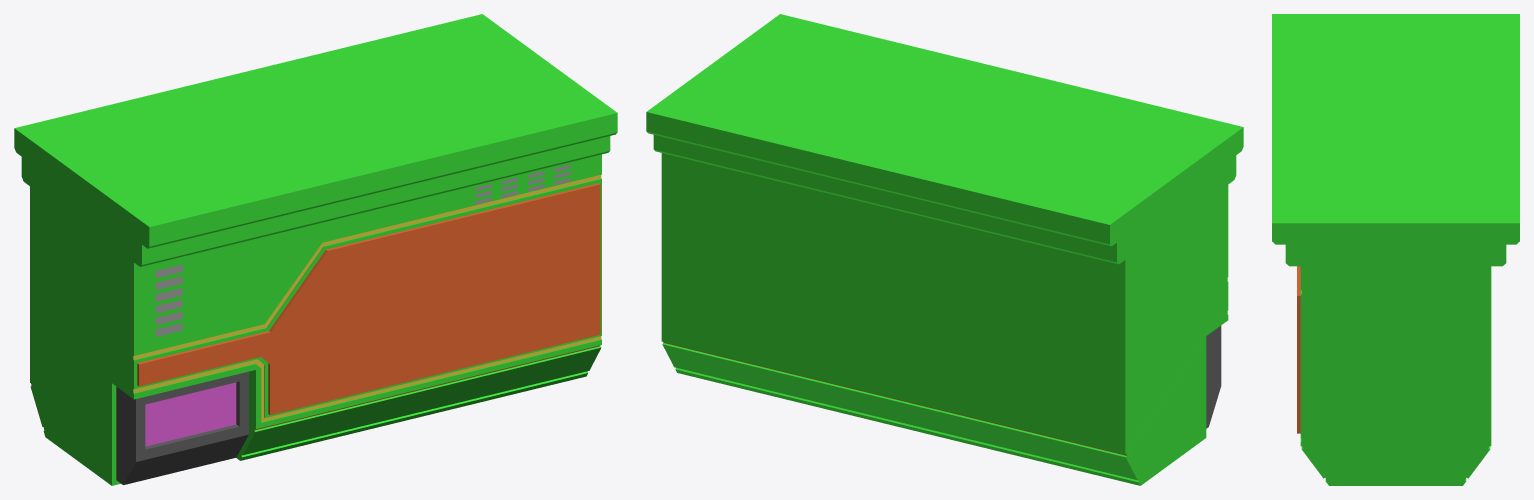
File: Bar_Ceiling_01_Straight_A.fbx
3 views of the same model, side by side, from view 1: azimuth 30°, elevation 25°; view 2: azimuth 150°, elevation 25°; view 3: azimuth 270°, elevation 25° (orthographic). The views are drawn at different scales.
Parts seen in each view (by area): view 1: Bar_Ceiling_01_Straight_A; view 2: Bar_Ceiling_01_Straight_A; view 3: Bar_Ceiling_01_Straight_A.
Boxes of the visible parts, <box> form: Bar_Ceiling_01_Straight_A: <box>14,14,617,485</box>; Bar_Ceiling_01_Straight_A: <box>646,14,1243,485</box>; Bar_Ceiling_01_Straight_A: <box>1272,14,1519,485</box>.
Bounding box in the file's own units: 183 × 107 × 91.44.
